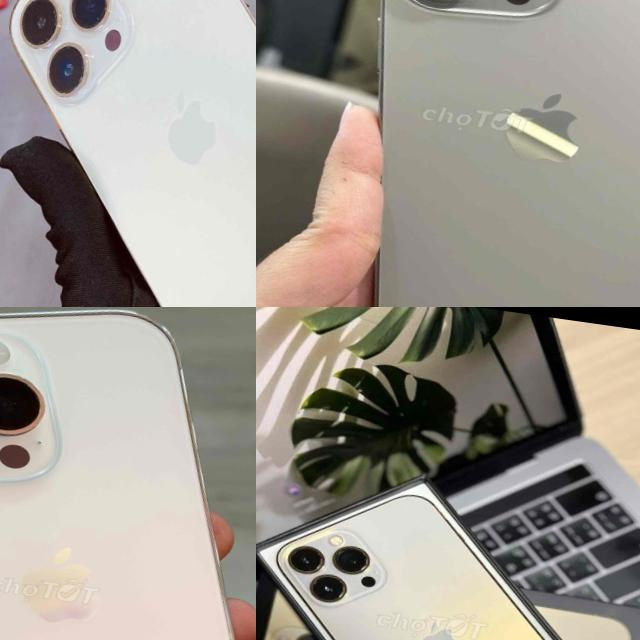gen_12_13: (256, 479, 640, 640)
gen_14: (0, 307, 256, 640), (0, 0, 256, 307)
gen_15: (278, 0, 640, 307)
